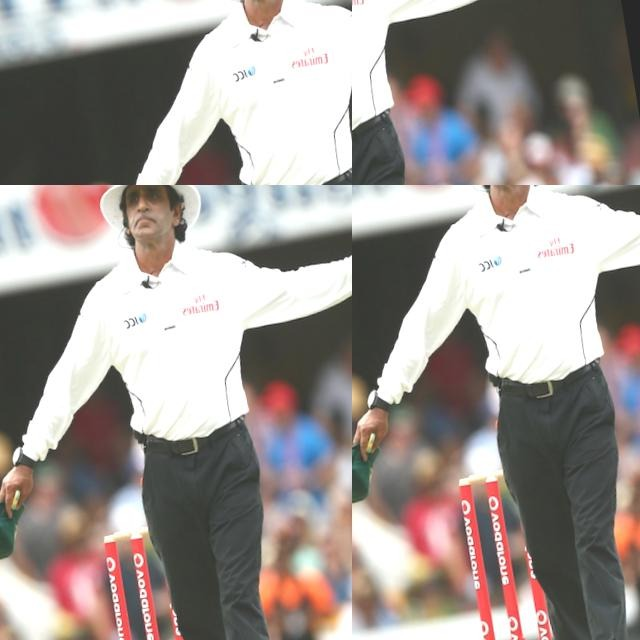No_Ball: (0, 185, 352, 640)
Out: (554, 185, 640, 361)
Wide: (205, 0, 352, 185), (456, 0, 623, 90)
